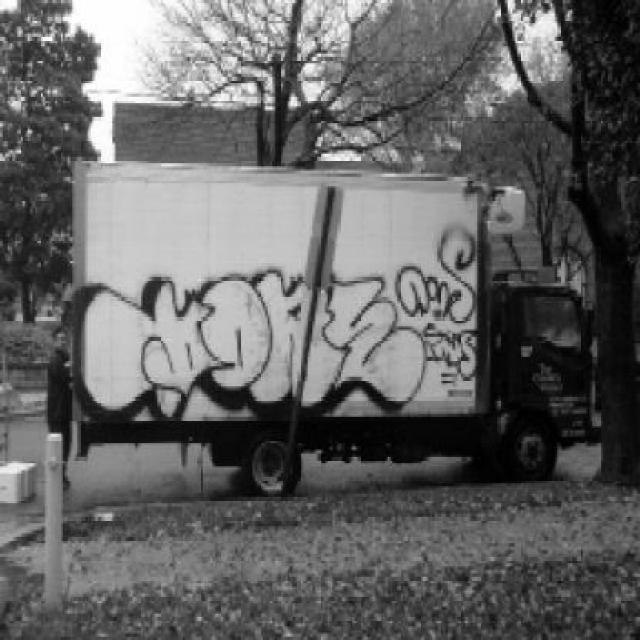Box Truck: (69, 162, 600, 497)
